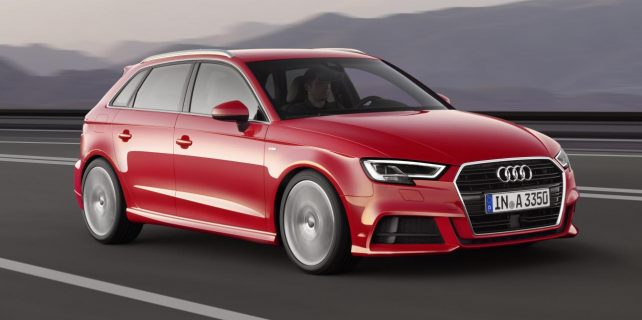audi: (491, 162, 536, 183)
